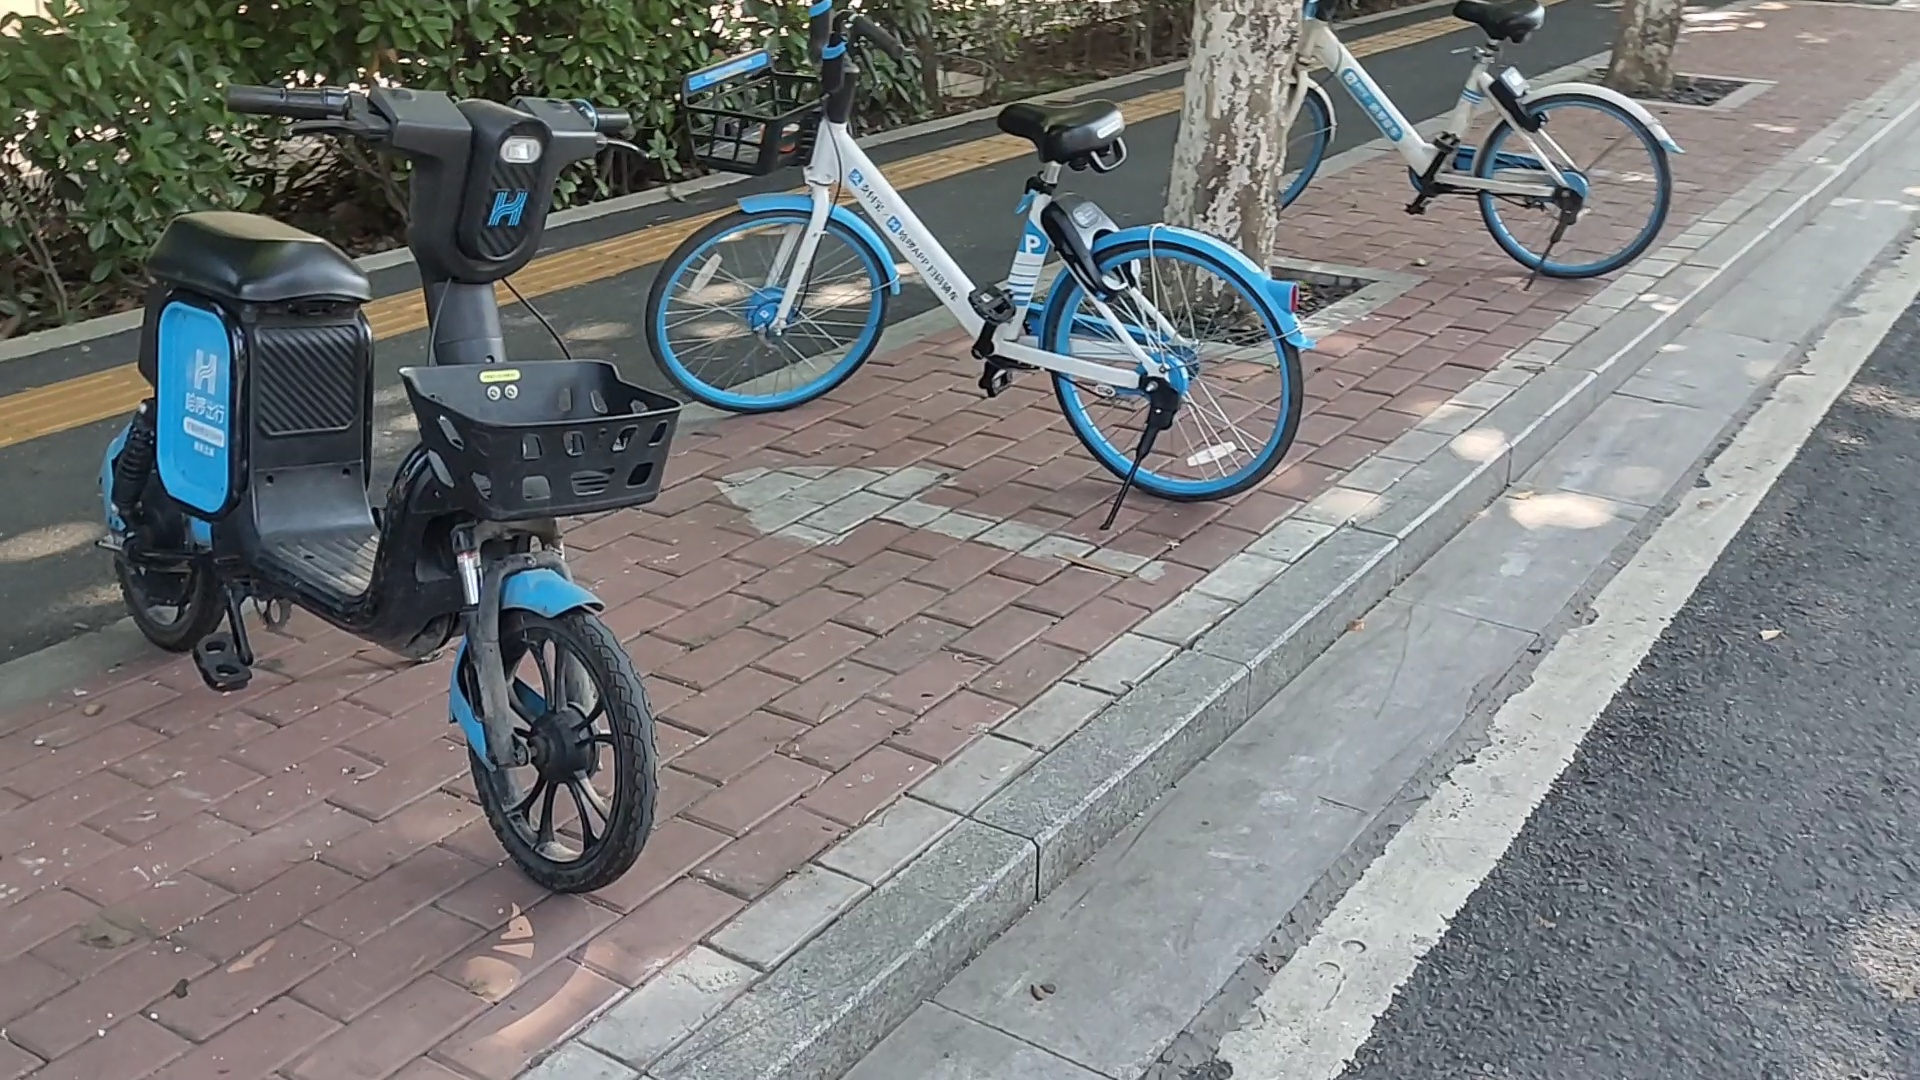non-vehicle: (67, 53, 690, 911), (641, 1, 1307, 504), (1211, 0, 1680, 280)
